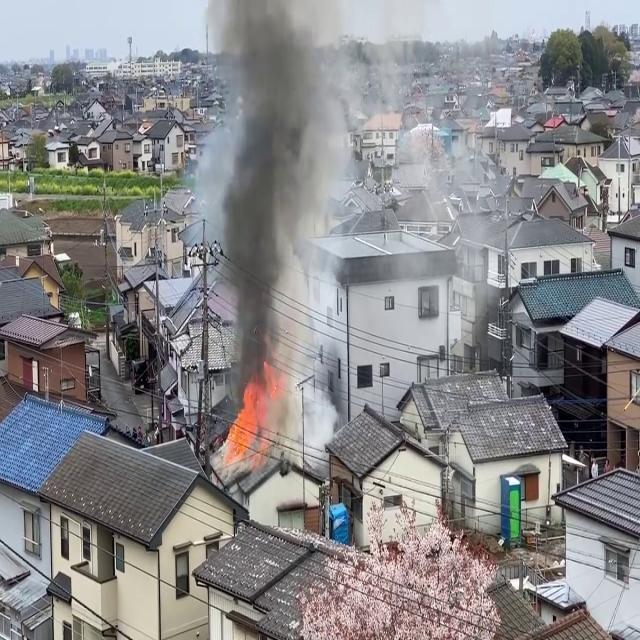Fire: (220, 376, 274, 468)
Smoke: (196, 1, 350, 440)
